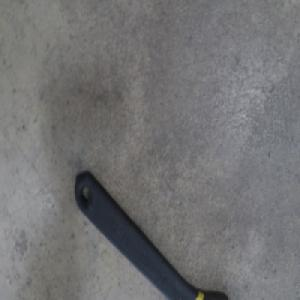AdjustableWrench: (76, 173, 232, 300)
